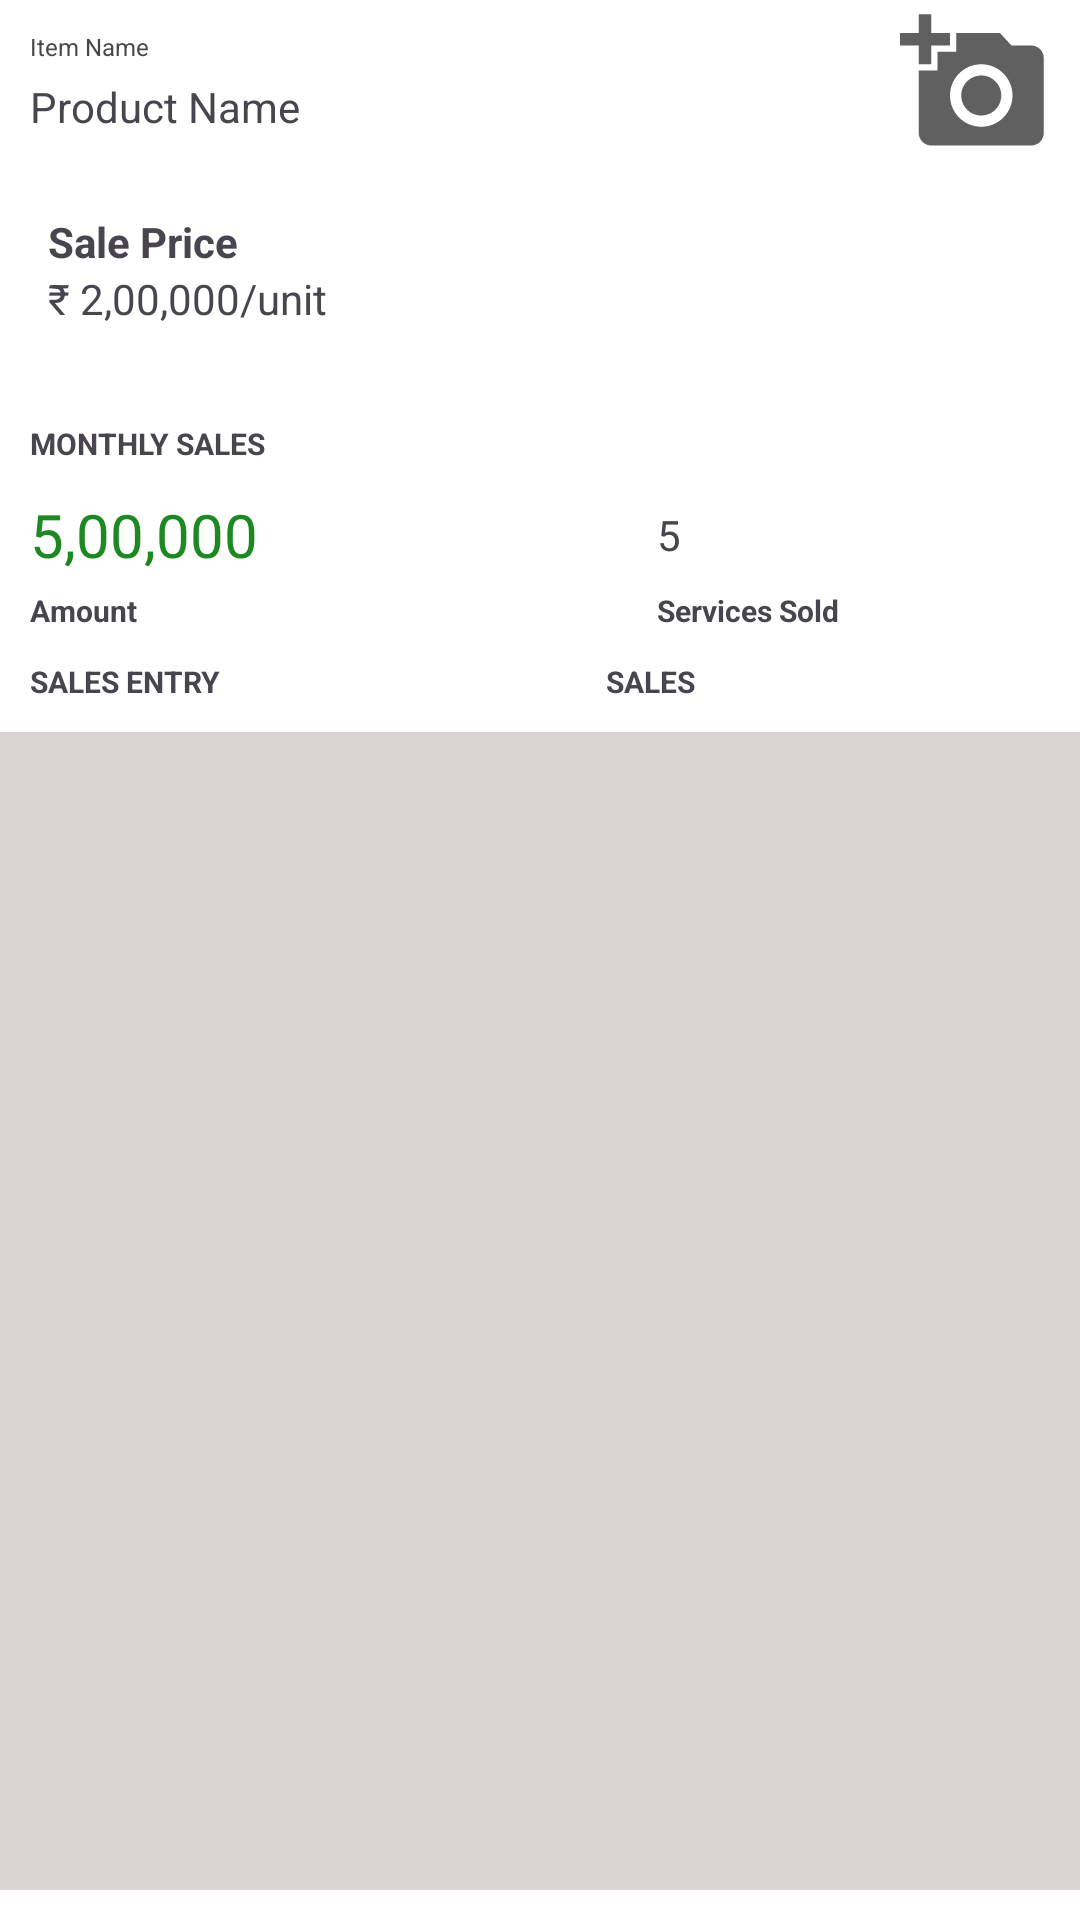

Locate icon controls on the screen. Image size 1080w x 1920h, boxes as bbox=[x1, y1, x2, y2].
add photo: bbox=[900, 14, 1044, 146]
